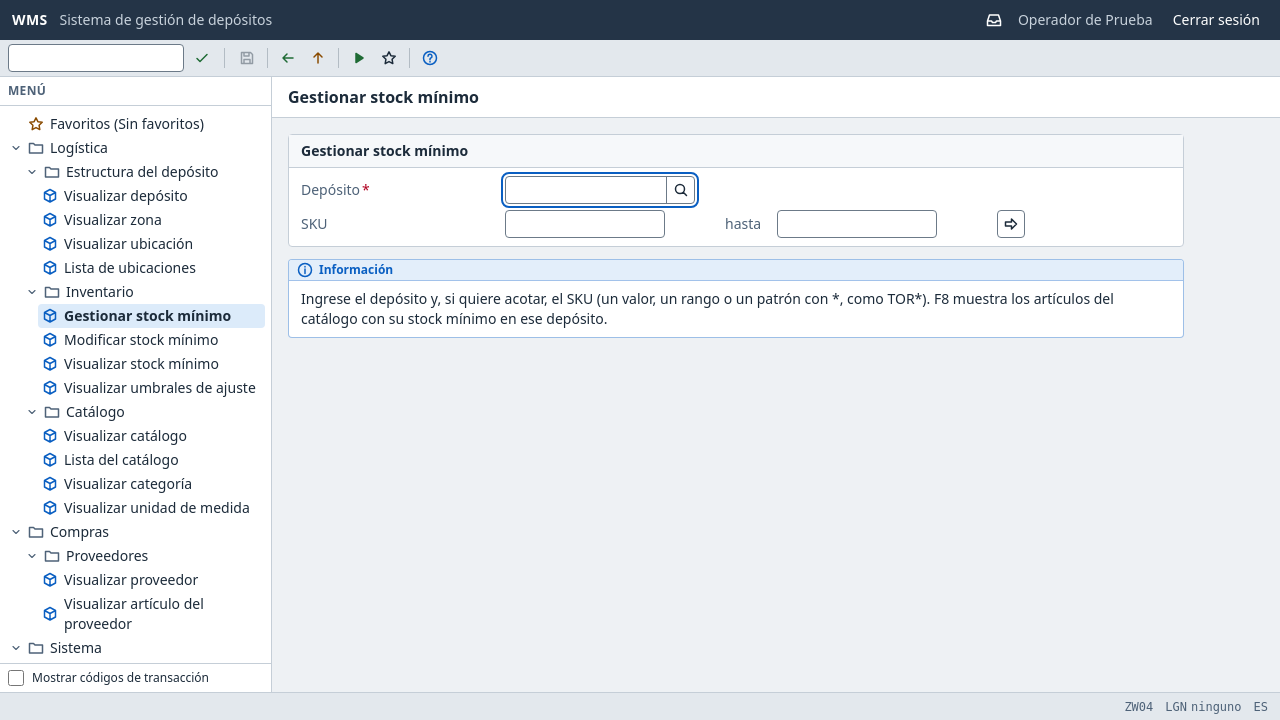
ZW04: F4 del depósito › ofrece todos los depósitos visibles con la columna Opera y rechaza el que no opera
Press F4
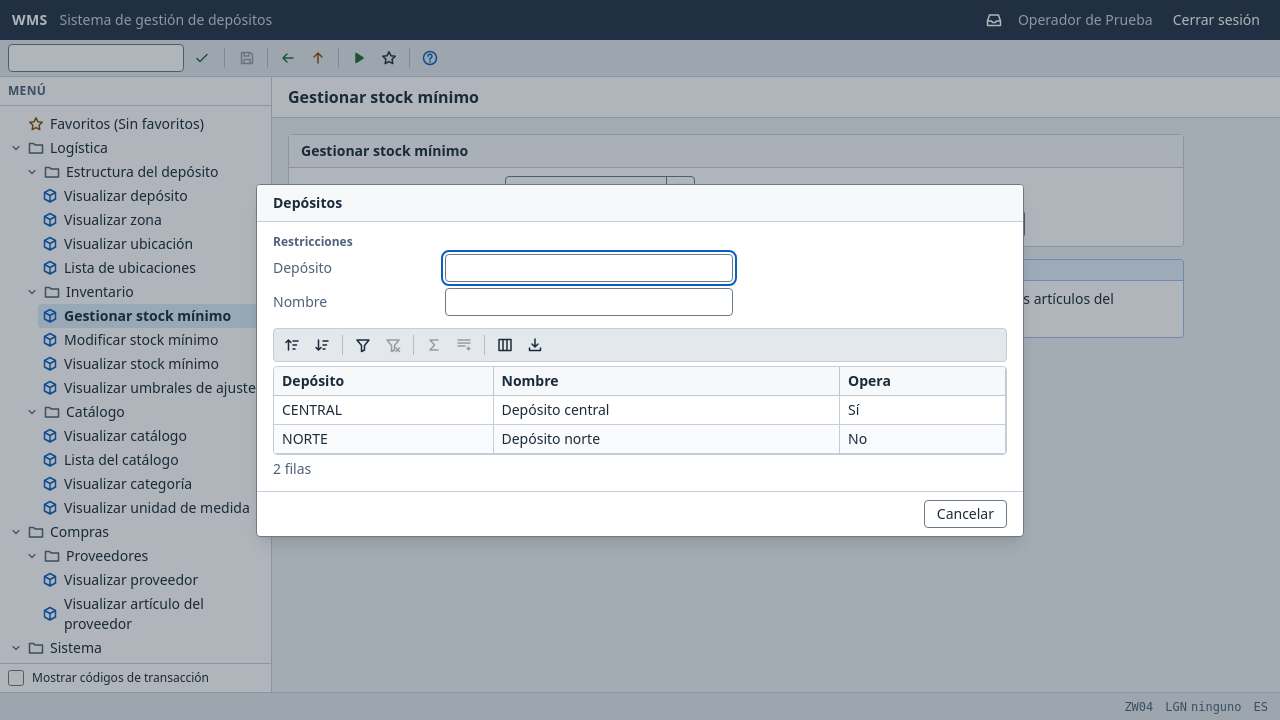
Now the column heading "Opera" is shown, box [840,366,1006,396]
Now the cell "Sí" is shown, box [840,396,1006,424]
Now the cell "No" is shown, box [840,424,1006,454]
Double-click the cell "NORTE" at (384, 439), box [274,424,494,454]
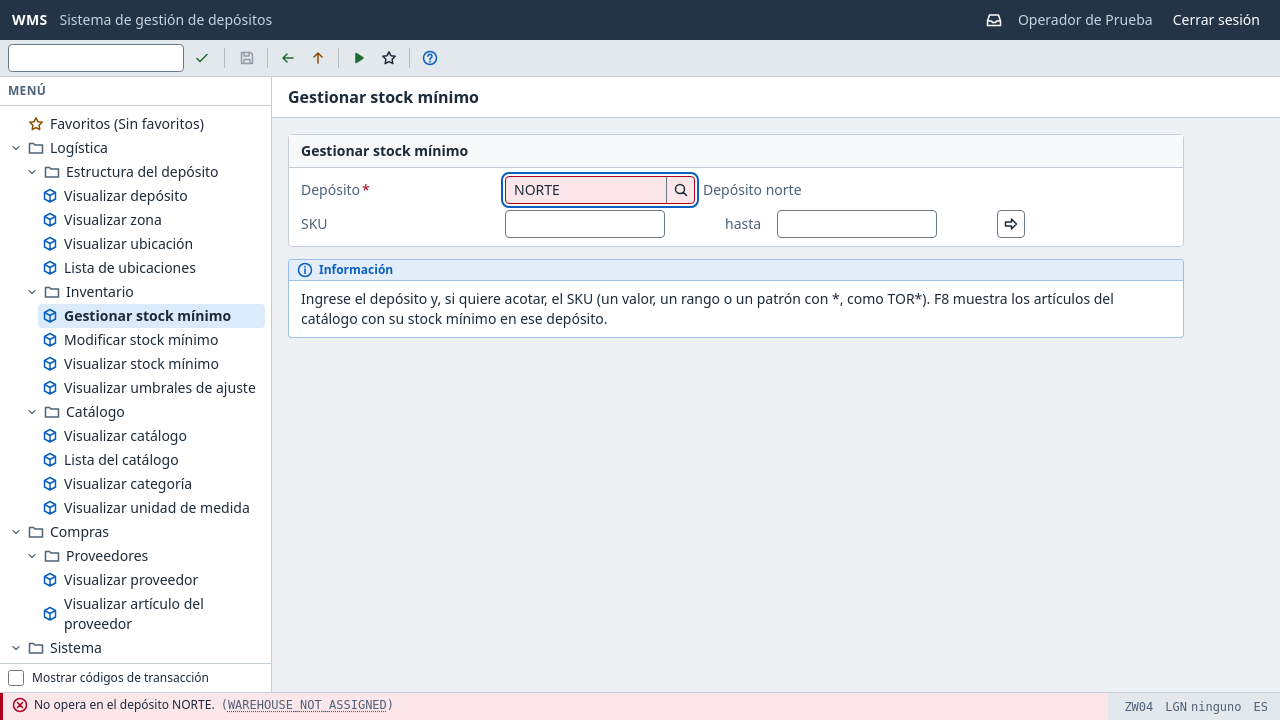
Now the message shows "No opera en el depósito NORTE.", box [34,696,215,712]
